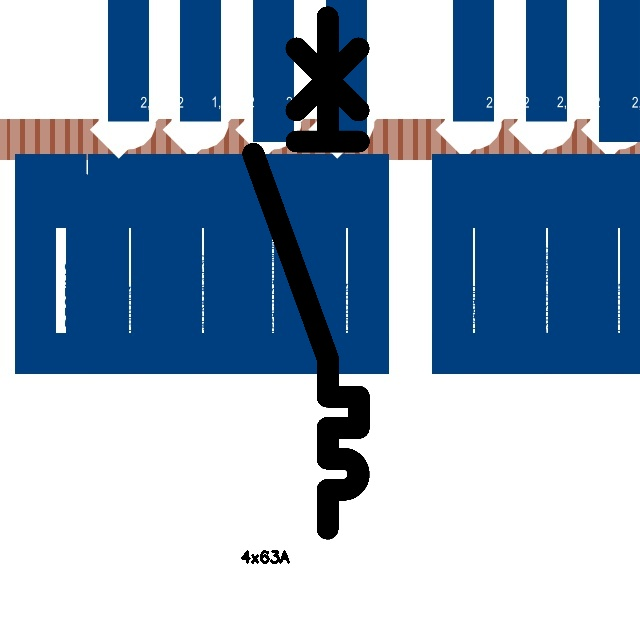interruptor_termomagnetico: (240, 4, 372, 542)
